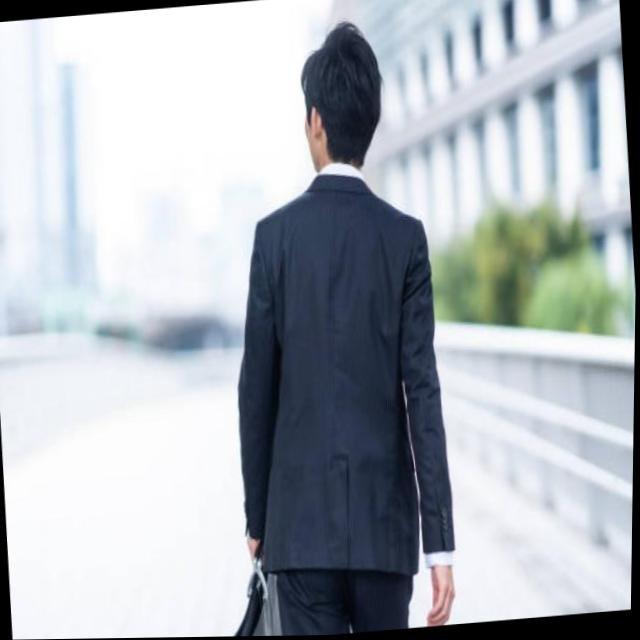no helmet: (266, 23, 421, 203)
